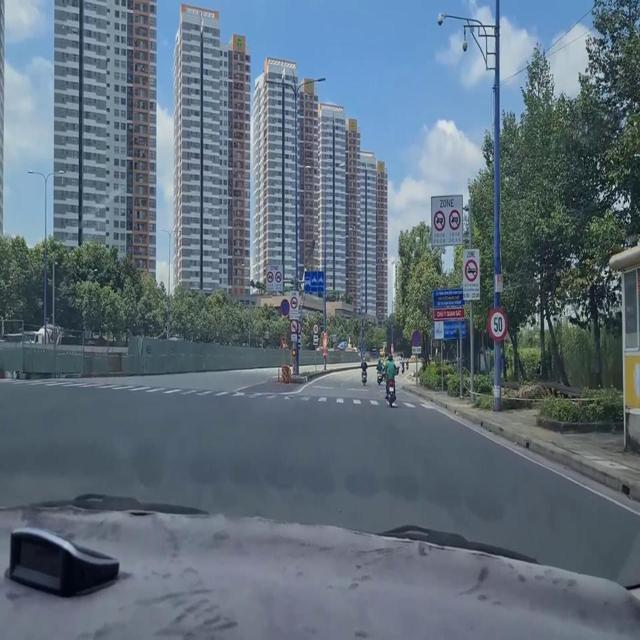Cấm các phương tiện hoạt động trong khung giờ cố định: (429, 188, 461, 249), (456, 244, 483, 300), (264, 256, 285, 290), (288, 288, 298, 319)
Cấm dừng - Cấm đỗ: (409, 326, 423, 348), (278, 294, 290, 317)
Cấm xe máy: (288, 317, 300, 335)
Giới hạn tốc độ: 50Km/h: (486, 299, 506, 346)
Giới hạn tốc độ: 80Km/h: (311, 322, 320, 335)
Khác: (433, 281, 467, 342)
Làn đường cho từng xe: (300, 266, 327, 297)
